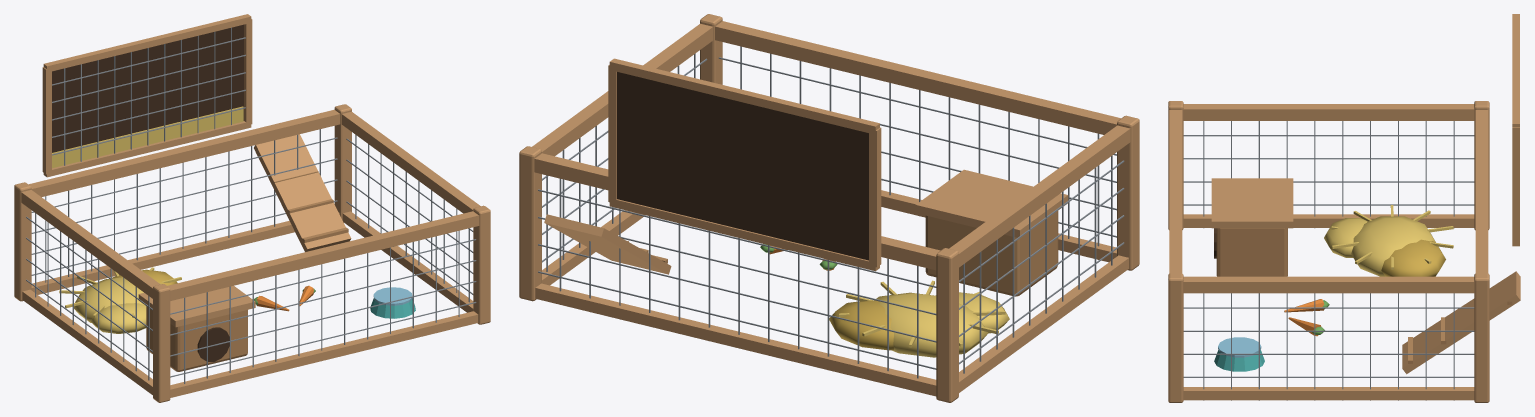
File: rabbit-run.glb
The picture shows the model from 3 angles, left to right: view 1: azimuth 30°, elevation 25°; view 2: azimuth 150°, elevation 25°; view 3: azimuth 270°, elevation 25°; orthographic projection. The views are drawn at different scales.
Parts seen in each view (by area): view 1: RabbitRun_run_wood, RabbitRun_wire, RabbitRun_hide_hole, RabbitRun_hay, RabbitRun_hide_box, RabbitRun_bowl, RabbitRun_water; view 2: RabbitRun_run_wood, RabbitRun_hide_hole, RabbitRun_wire, RabbitRun_hide_box, RabbitRun_hay, RabbitRun_hay2; view 3: RabbitRun_run_wood, RabbitRun_wire, RabbitRun_hay, RabbitRun_hide_box, RabbitRun_hay2, RabbitRun_bowl, RabbitRun_water, RabbitRun_carrot.
Boxes of the visible parts, x1,y1,x2,y2 form: RabbitRun_run_wood: (14,14,490,402); RabbitRun_wire: (26,27,476,383); RabbitRun_hide_hole: (52,24,243,361); RabbitRun_hay: (52,106,243,333); RabbitRun_hide_box: (146,152,348,371); RabbitRun_bowl: (370,298,415,318); RabbitRun_water: (373,287,412,305); RabbitRun_run_wood: (519,14,1139,402); RabbitRun_hide_hole: (617,72,868,260); RabbitRun_wire: (538,46,1124,378); RabbitRun_hide_box: (627,211,1058,296); RabbitRun_hay: (838,280,1009,357); RabbitRun_hay2: (829,300,893,350); RabbitRun_run_wood: (1168,14,1520,402); RabbitRun_wire: (1183,121,1474,400); RabbitRun_hay: (1324,205,1453,276); RabbitRun_hide_box: (1216,228,1512,363); RabbitRun_hay2: (1381,239,1445,276); RabbitRun_bowl: (1214,350,1264,371); RabbitRun_water: (1218,337,1261,357); RabbitRun_carrot: (1284,299,1324,336).
Size of the model in its own units: 1.66 by 1.04 by 1.38.
